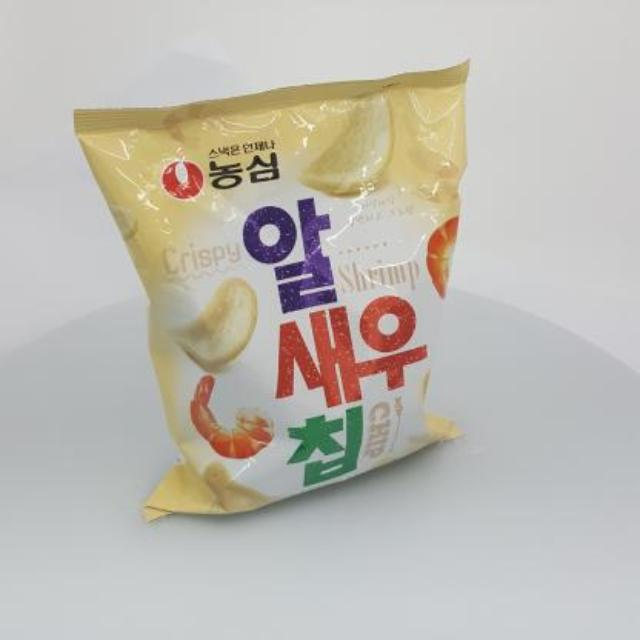snack_bag: (64, 49, 498, 541)
